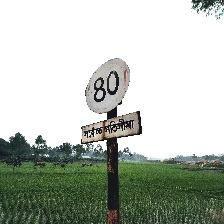Speed-limit: (81, 57, 140, 145)
